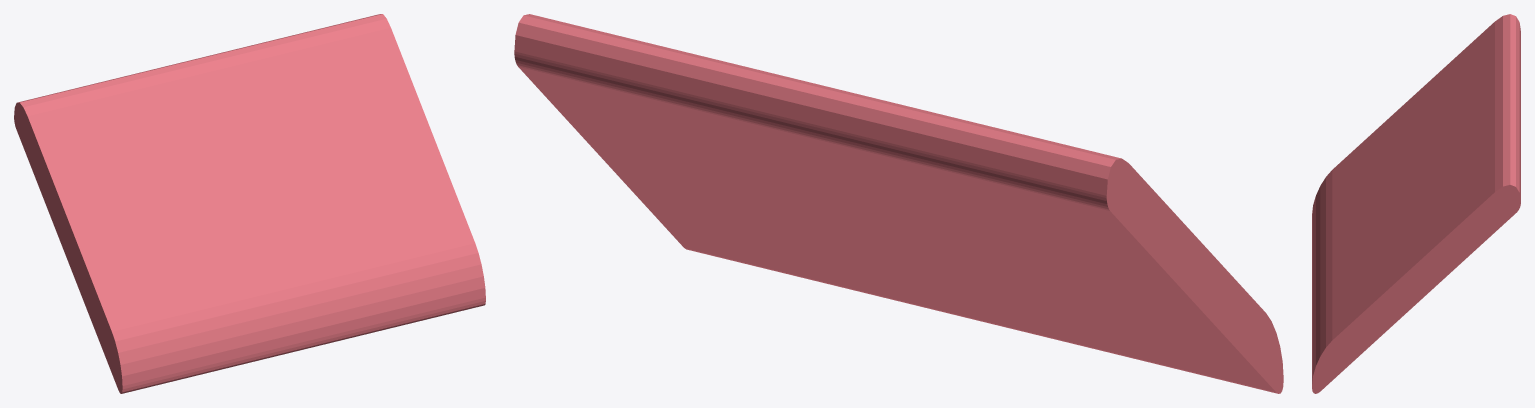
Rendered from platform02.fbx.
The picture shows the model from 3 angles, left to right: view 1: azimuth 30°, elevation 25°; view 2: azimuth 150°, elevation 25°; view 3: azimuth 270°, elevation 25°; orthographic projection. The views are drawn at different scales.
Parts seen in each view (by area): view 1: platform02; view 2: platform02; view 3: platform02.
Part boxes in pixels (<box>): platform02: <box>14,14,485,393</box>; platform02: <box>514,14,1283,393</box>; platform02: <box>1312,14,1520,393</box>.
Size of the model in its own units: 131 by 74.65 by 67.53.
